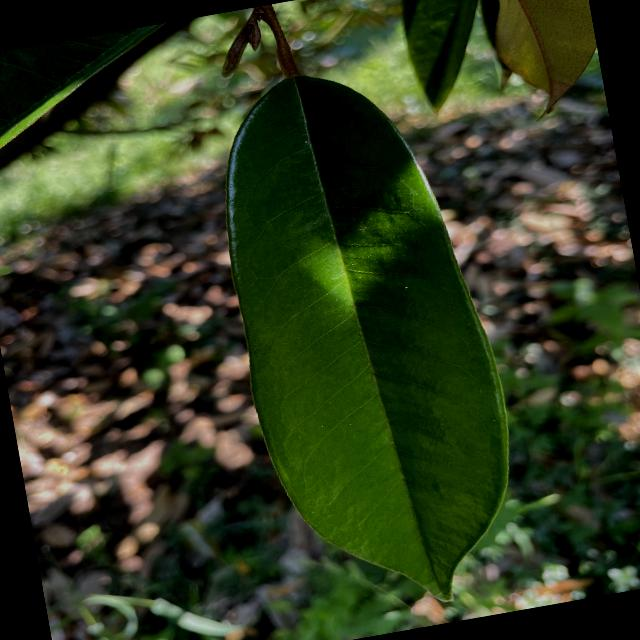No Disease: (188, 40, 548, 639)
